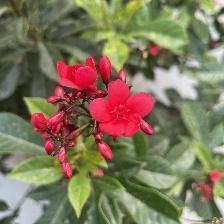jatropha: (90, 78, 158, 142)
